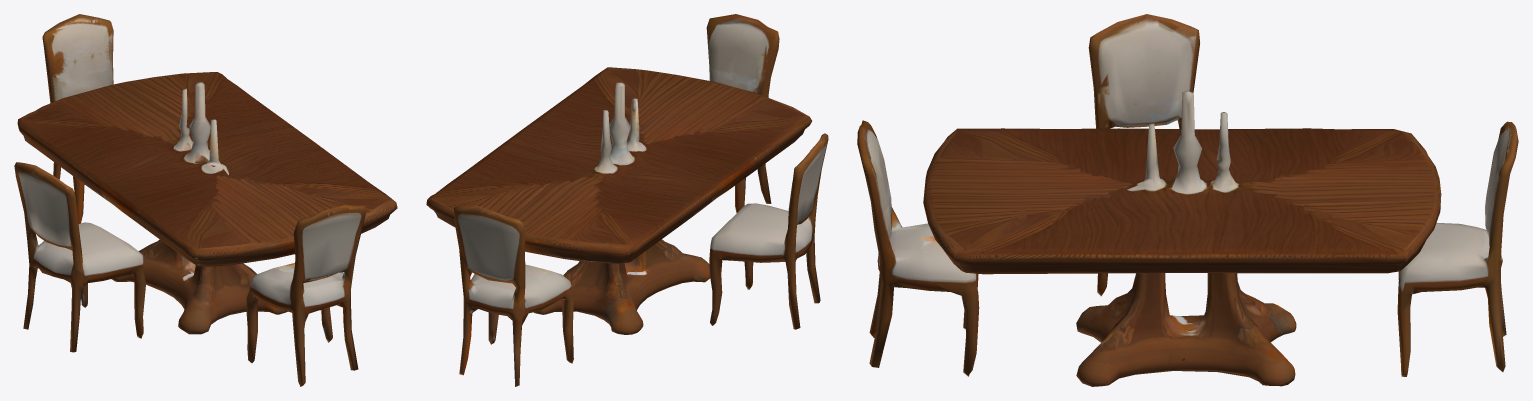
Rendered from Table With candles.fbx.
The picture shows the model from 3 angles, left to right: view 1: azimuth 30°, elevation 25°; view 2: azimuth 150°, elevation 25°; view 3: azimuth 270°, elevation 25°; orthographic projection. The views are drawn at different scales.
Parts seen in each view (by area): view 1: tripo_node_17bcffff; view 2: tripo_node_17bcffff; view 3: tripo_node_17bcffff.
Boxes of the visible parts, box(x1,y1,x2,y2) form: tripo_node_17bcffff: box(14, 14, 397, 386); tripo_node_17bcffff: box(426, 14, 828, 386); tripo_node_17bcffff: box(857, 14, 1518, 386).
Bounding box in the file's own units: 60.44 × 41.57 × 94.45.
1 material, 1 textured.
